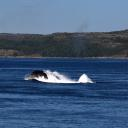submarine: (31, 71, 98, 84)
